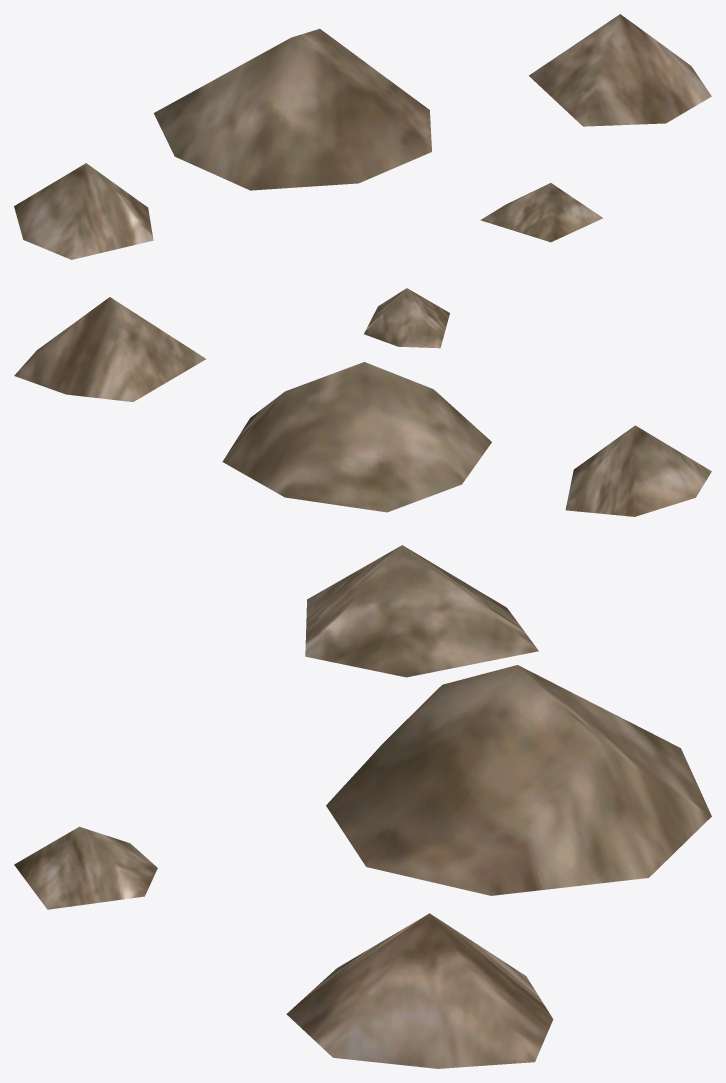
The model's file is INST_OH_FINE_ROCKS_01.fbx.
3 renders of one model, top to bottom at view 1: azimuth 30°, elevation 25°; view 2: azimuth 150°, elevation 25°; view 3: azimuth 270°, elevation 25°, orthographic. The views are drawn at different scales.
Parts seen in each view (by area): view 1: INST_OH_FINE_ROCKS_01; view 2: INST_OH_FINE_ROCKS_01; view 3: INST_OH_FINE_ROCKS_01.
Part boxes in pixels (x1,y1,x2,y2): INST_OH_FINE_ROCKS_01: [14, 14, 711, 259]; INST_OH_FINE_ROCKS_01: [14, 288, 711, 516]; INST_OH_FINE_ROCKS_01: [14, 545, 711, 1068].
Bounding box in the file's own units: 5421 × 753 × 3343.
Materials: 1 (1 with a texture image).
